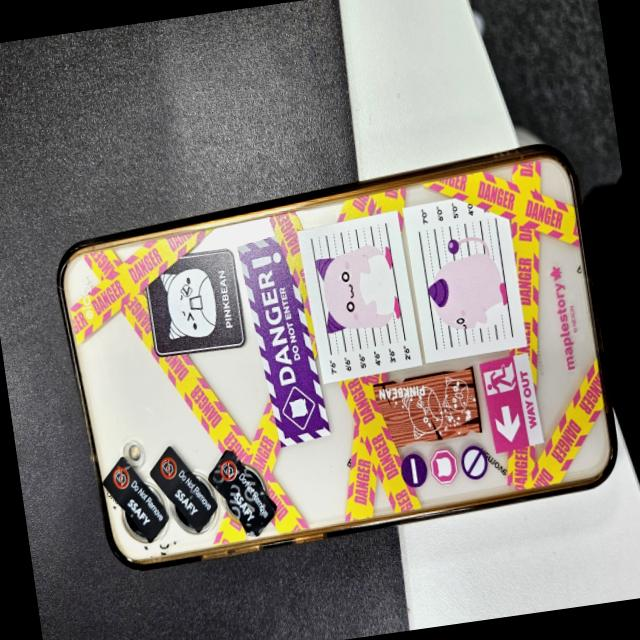phone: (46, 138, 624, 574)
removed_sticker: (206, 447, 274, 538)
sticker: (150, 437, 216, 545), (102, 454, 162, 540)
